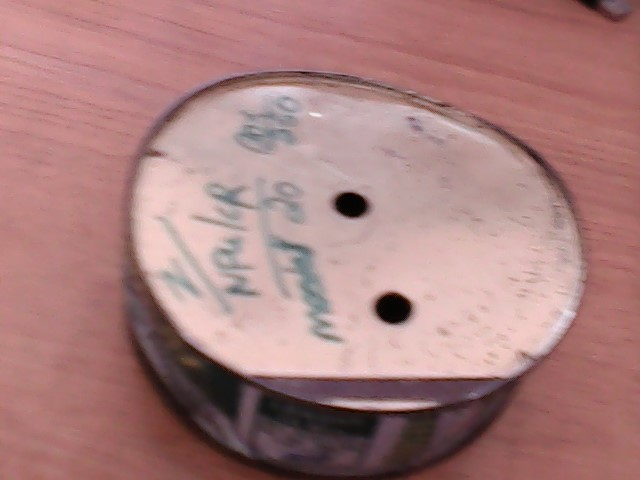Metal: (106, 68, 568, 480)
